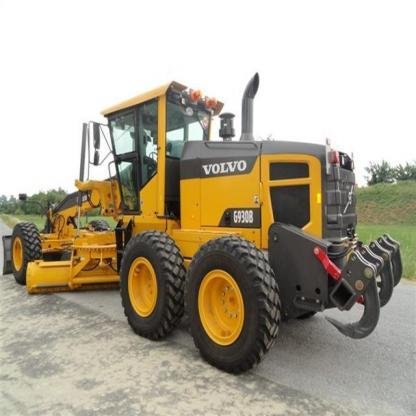bull_dozer/loader/grader: (5, 77, 403, 378)
